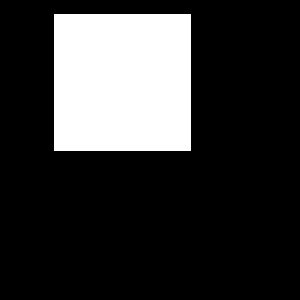circle: (54, 14, 191, 151)
rectangle: (60, 14, 182, 136)
